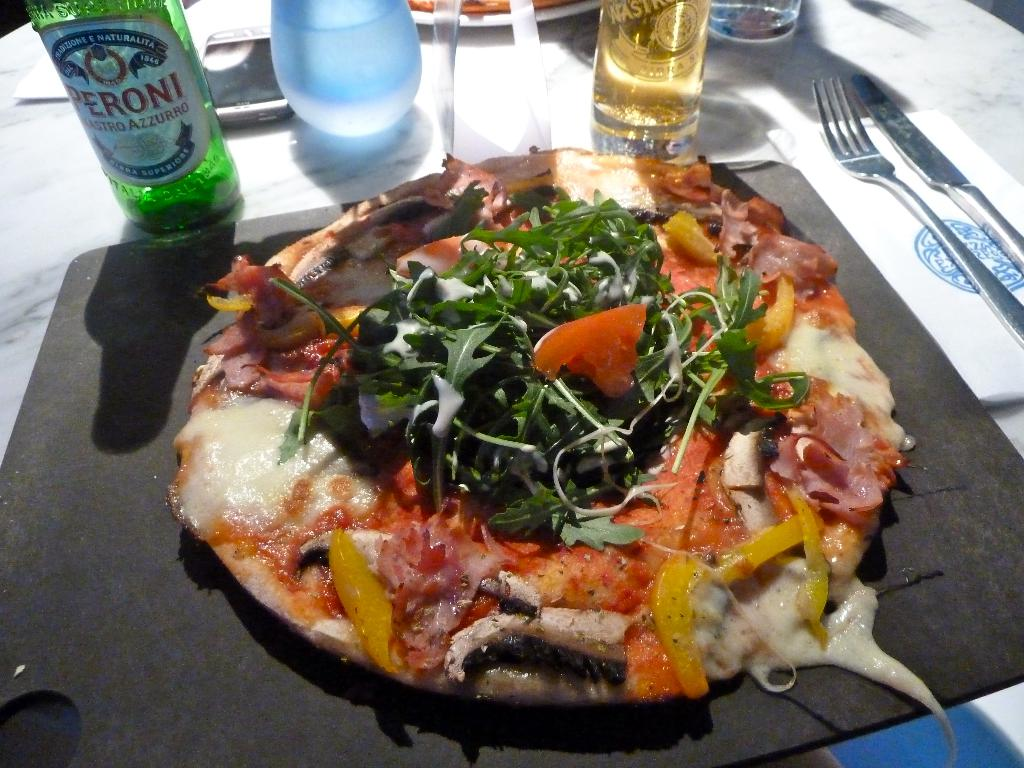Pizza: (161, 133, 908, 704)
